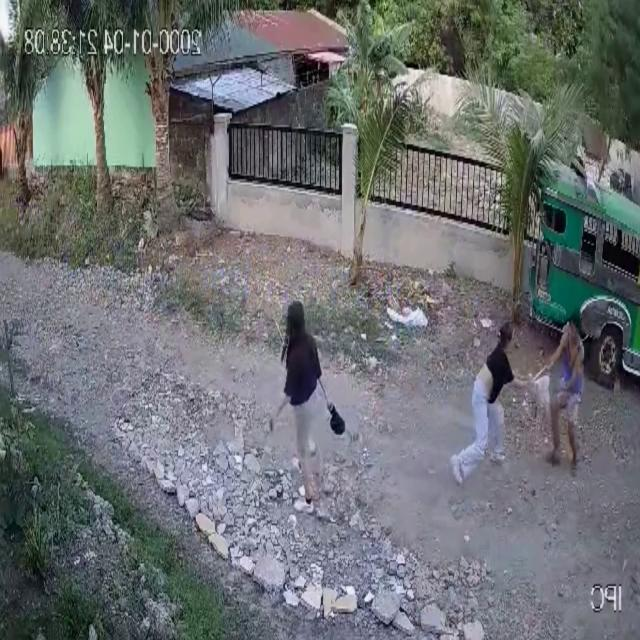walking: (268, 300, 347, 516)
